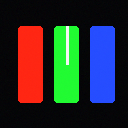4 line_v: (66, 26, 68, 64)
